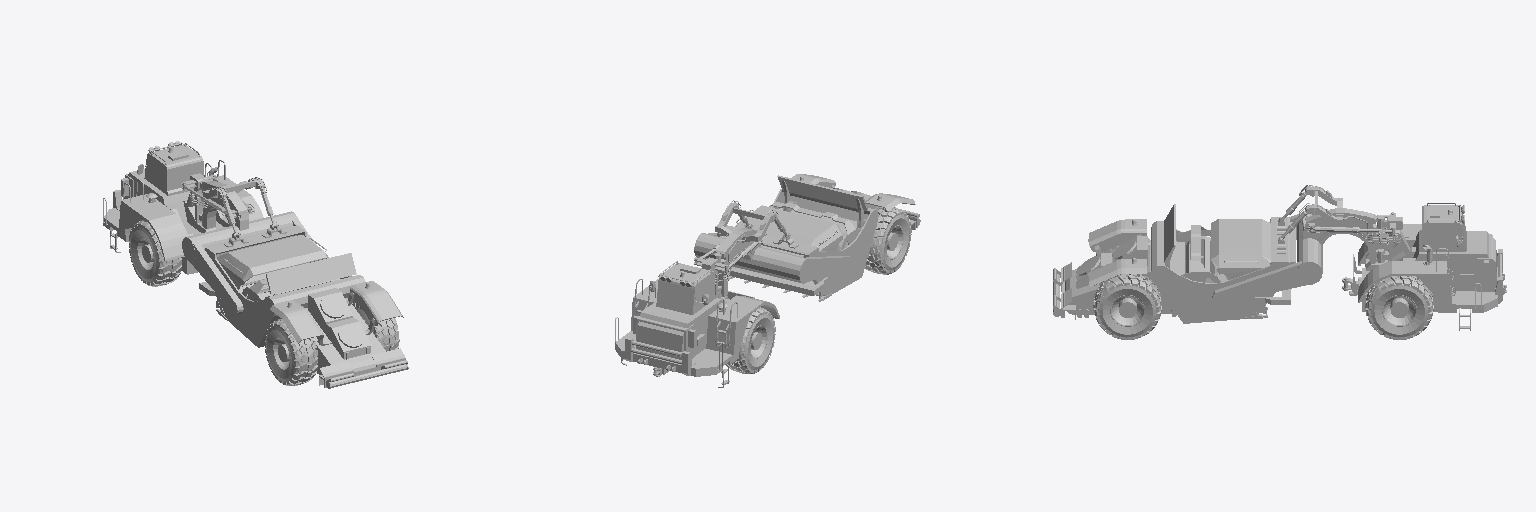
The model's file is Truck 7.obj.
The picture shows the model from 3 angles: view 1: azimuth 30°, elevation 25°; view 2: azimuth 150°, elevation 25°; view 3: azimuth 270°, elevation 25°; orthographic projection.
Visible parts, largest first — view 1: Body_2, Body_1, Wheel_BL, Wheel_FL, Wheel_BR; view 2: Body_1, Body_2, Wheel_BL, Wheel_FL; view 3: Body_2, Body_1, Wheel_BR, Wheel_FR, Body_3.
Part boxes in pixels (bbox=[...]): Body_2: bbox=[182, 211, 408, 388]; Body_1: bbox=[103, 141, 278, 274]; Wheel_BL: bbox=[265, 319, 317, 385]; Wheel_FL: bbox=[129, 220, 181, 286]; Wheel_BR: bbox=[352, 302, 399, 351]; Body_1: bbox=[615, 200, 790, 387]; Body_2: bbox=[694, 174, 920, 301]; Wheel_BL: bbox=[865, 206, 911, 274]; Wheel_FL: bbox=[729, 307, 775, 373]; Body_2: bbox=[1053, 204, 1322, 323]; Body_1: bbox=[1279, 185, 1506, 330]; Wheel_BR: bbox=[1093, 274, 1161, 339]; Wheel_FR: bbox=[1365, 276, 1433, 339]; Body_3: bbox=[1186, 236, 1218, 282].
Size of the model in its own units: 45.33 by 49.88 by 168.